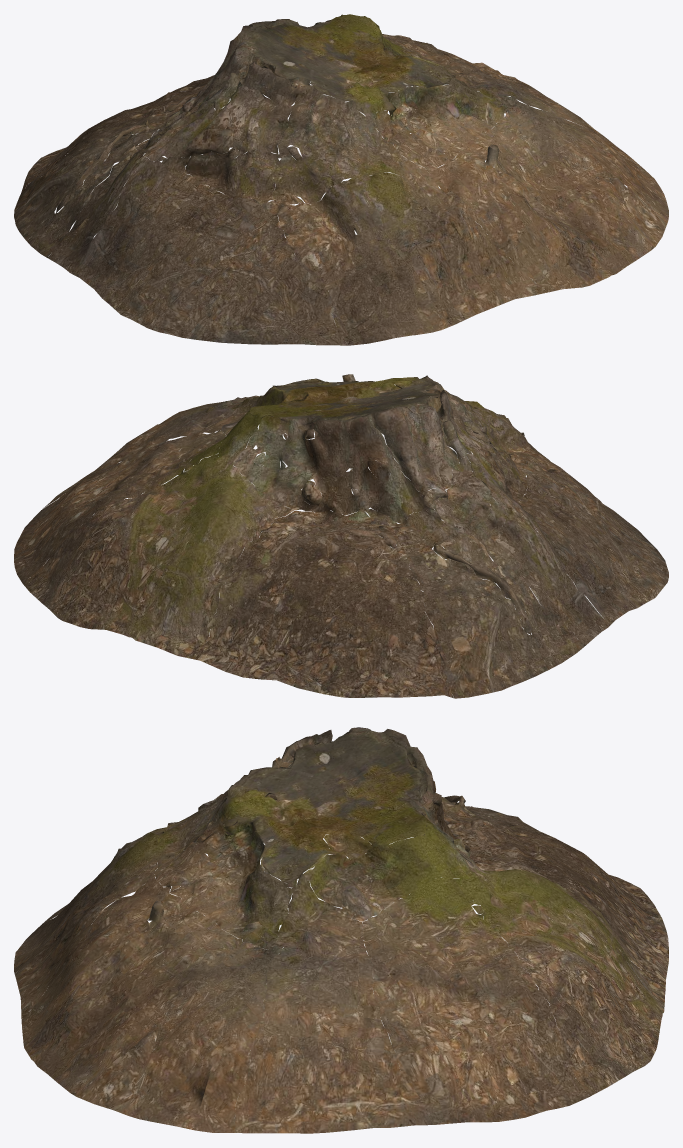
The model's file is tree_stump_02.glb.
3 renders of one model, top to bottom at view 1: azimuth 30°, elevation 25°; view 2: azimuth 150°, elevation 25°; view 3: azimuth 270°, elevation 25°, orthographic. The views are drawn at different scales.
Parts seen in each view (by area): view 1: tree_stump_02; view 2: tree_stump_02; view 3: tree_stump_02.
Part boxes in pixels (x1,y1,x2,y2): tree_stump_02: (14,14,668,345); tree_stump_02: (14,374,668,698); tree_stump_02: (14,727,668,1133).
Bounding box in the file's own units: 1.52 × 0.5213 × 1.39.
1 material, 1 textured.
